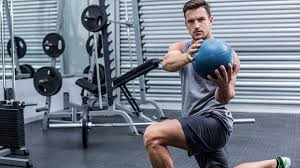blue ball: (192, 39, 236, 81)
